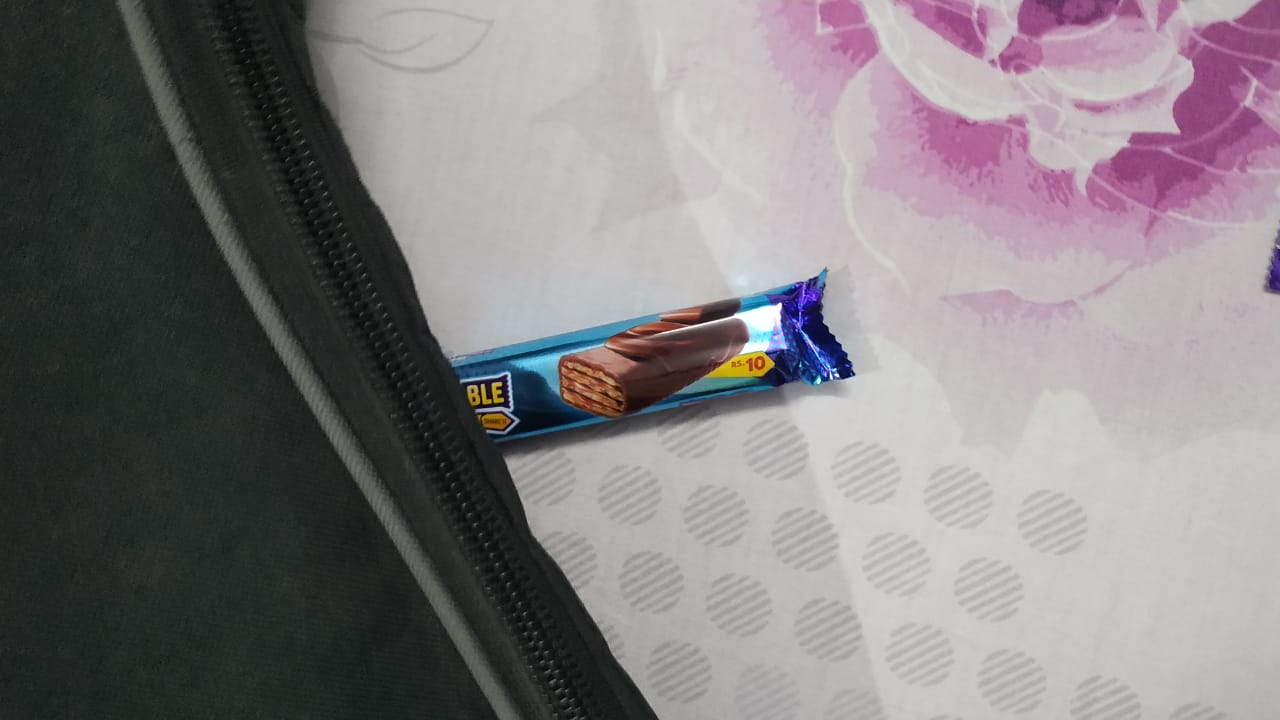perk: (418, 264, 862, 447)
